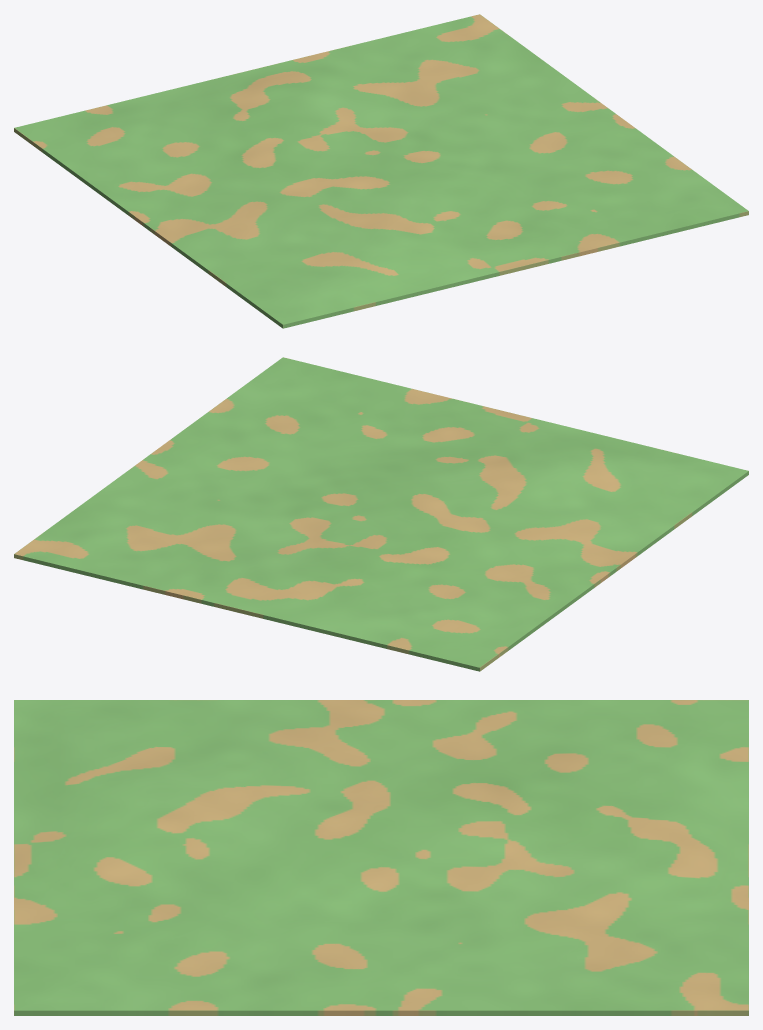
The model's file is Grass_Flat_06.obj.
3 renders of one model, top to bottom at view 1: azimuth 30°, elevation 25°; view 2: azimuth 150°, elevation 25°; view 3: azimuth 270°, elevation 25°, orthographic. The views are drawn at different scales.
Size of the model in its own units: 10 by 0.2381 by 10.
1 material, 1 textured.
